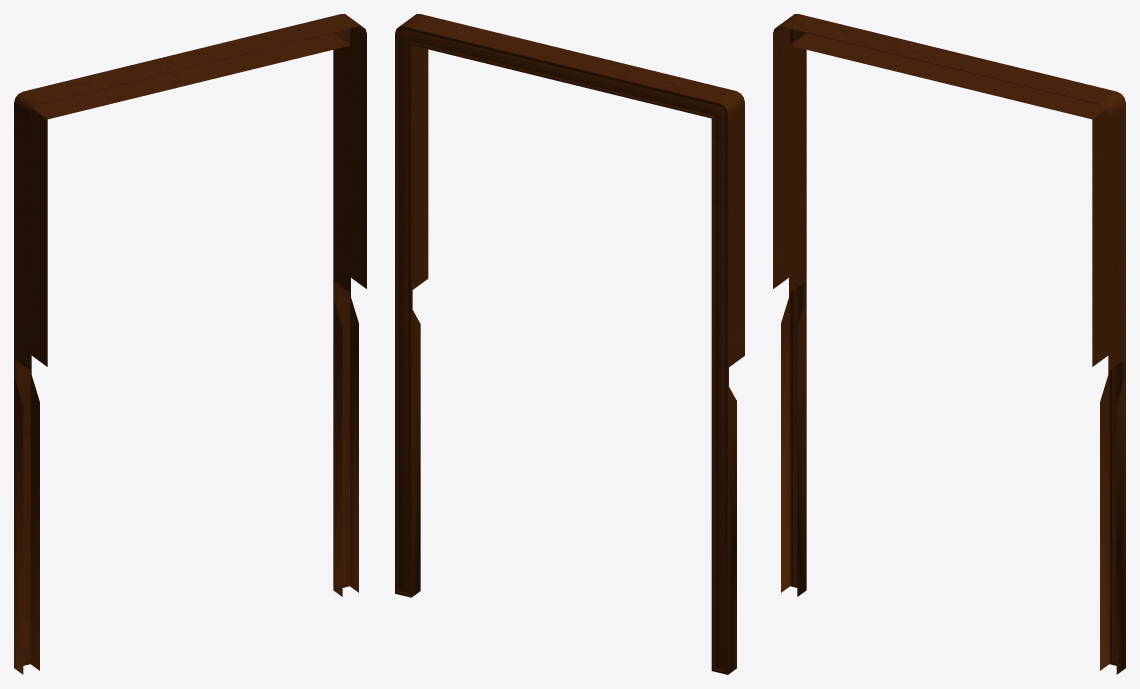
The model's file is DoorFrame.fbx.
3 renders of one model, left to right at view 1: azimuth 30°, elevation 25°; view 2: azimuth 150°, elevation 25°; view 3: azimuth 330°, elevation 25°, orthographic.
Visible parts, largest first — view 1: Wall High DoorFrame.004; view 2: Wall High DoorFrame.004; view 3: Wall High DoorFrame.004.
Part boxes in pixels (<box>): Wall High DoorFrame.004: <box>14,14,366,674</box>; Wall High DoorFrame.004: <box>395,14,744,674</box>; Wall High DoorFrame.004: <box>773,14,1125,674</box>.
Size of the model in its own units: 133 by 218 by 11.73.
